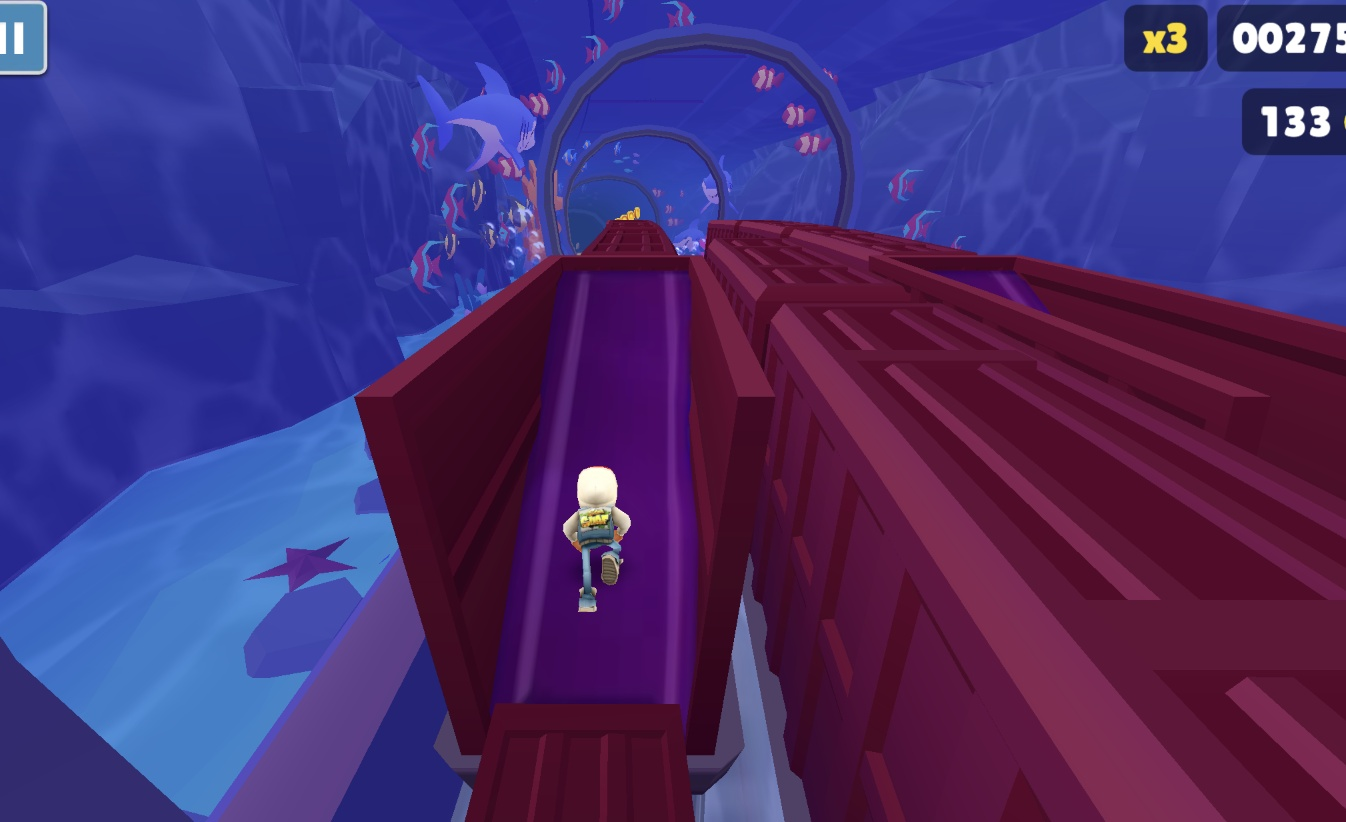train: (690, 219, 1346, 822), (355, 219, 779, 822)
